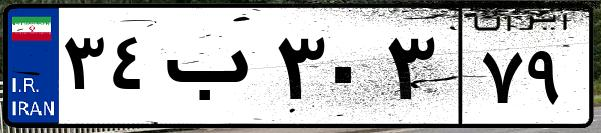0: (330, 28, 385, 110)
3: (270, 28, 330, 110), (385, 28, 445, 110), (57, 26, 110, 100)
4: (110, 28, 158, 98)
7: (475, 38, 525, 113)
9: (525, 38, 570, 115)
ب: (158, 20, 270, 120)
